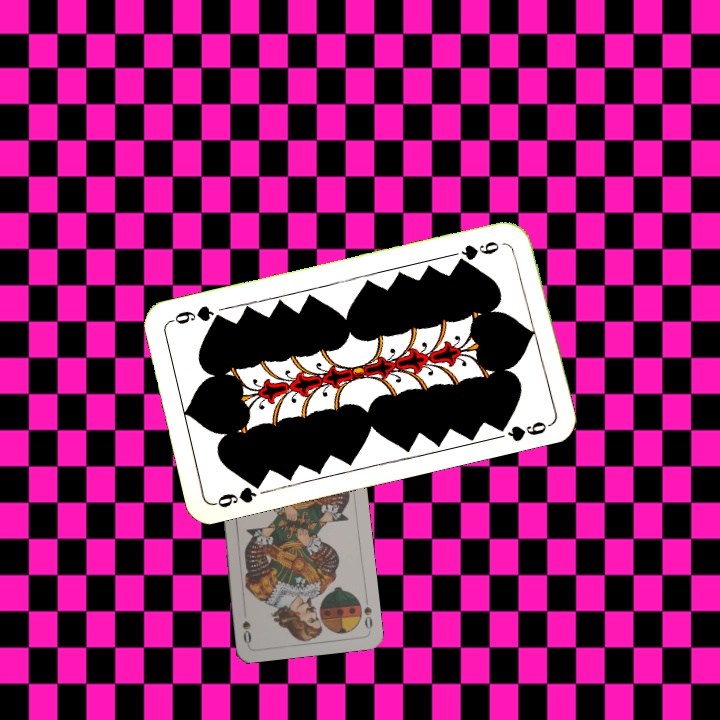G9: (210, 475, 266, 510), (452, 237, 502, 267)
SO: (360, 593, 375, 632)
